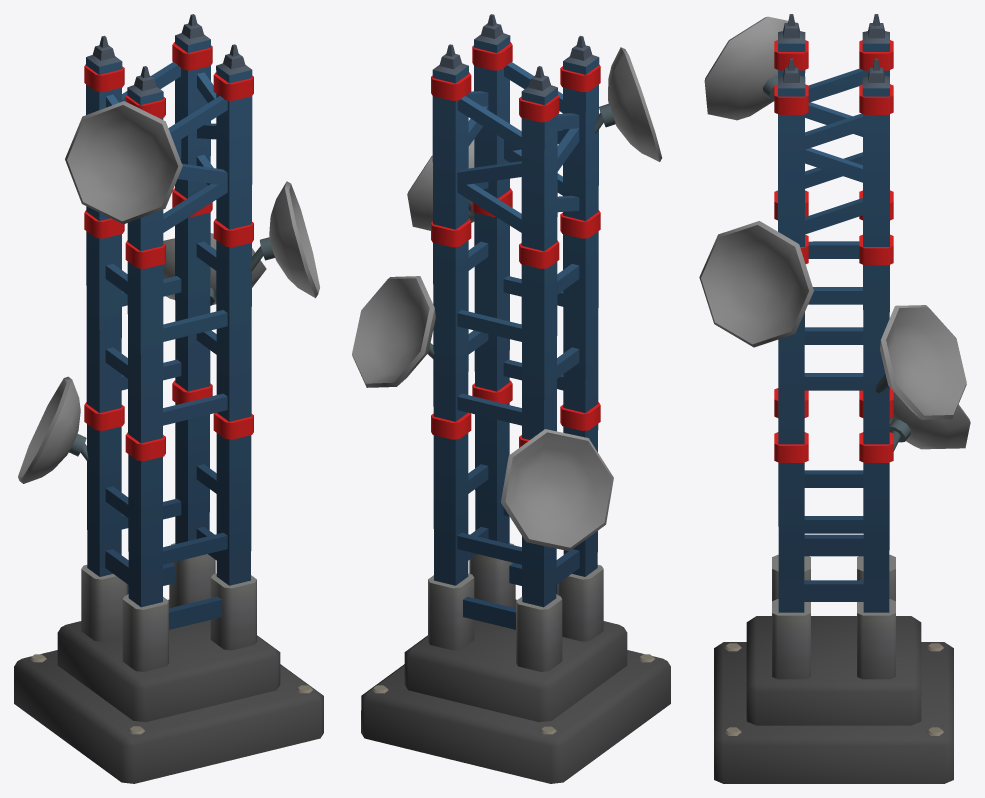
File: SignalTower_1_E.fbx
3 renders of one model, left to right at view 1: azimuth 30°, elevation 25°; view 2: azimuth 150°, elevation 25°; view 3: azimuth 270°, elevation 25°, orthographic. The views are drawn at different scales.
Visible parts, largest first — view 1: SignalTower_1_E; view 2: SignalTower_1_E; view 3: SignalTower_1_E.
Boxes of the visible parts, box(x1,y1,x2,y2) form: SignalTower_1_E: box(14, 14, 323, 783); SignalTower_1_E: box(352, 14, 670, 783); SignalTower_1_E: box(699, 14, 970, 783).
Bounding box in the file's own units: 118 × 309 × 109.
